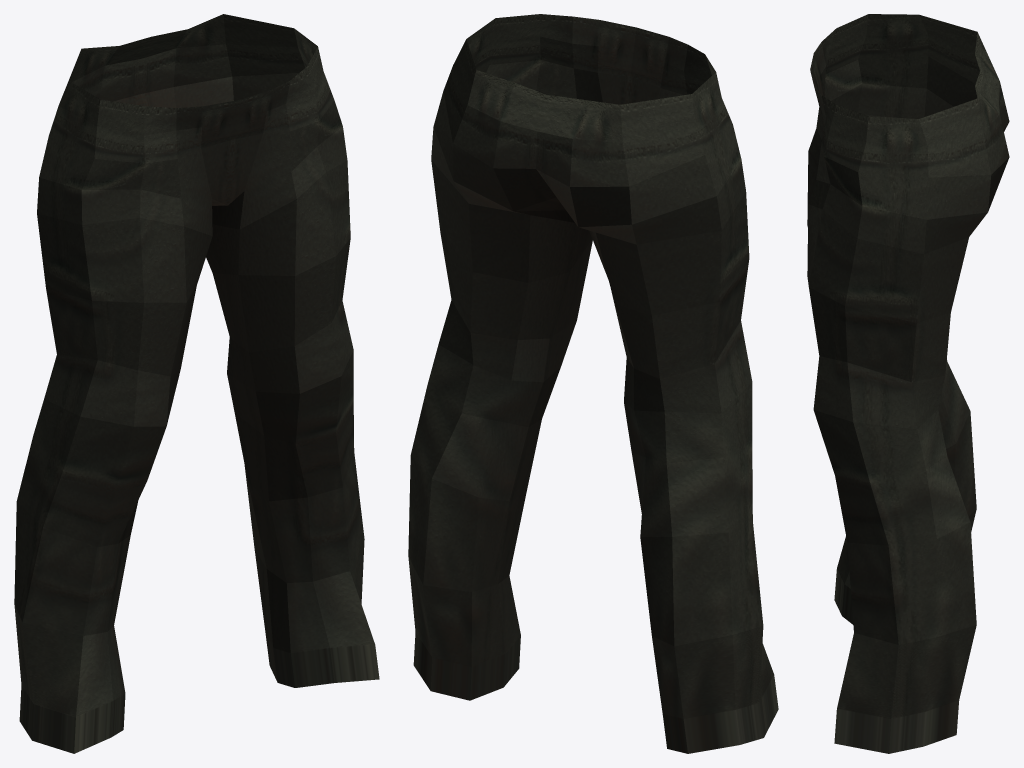
Rendered from garment.glb.
The picture shows the model from 3 angles, left to right: view 1: azimuth 30°, elevation 25°; view 2: azimuth 150°, elevation 25°; view 3: azimuth 270°, elevation 25°; orthographic projection. The views are drawn at different scales.
Parts seen in each view (by area): view 1: garment; view 2: garment; view 3: garment.
Boxes of the visible parts, box(x1,y1,x2,y2) form: garment: box(14, 14, 379, 753); garment: box(408, 14, 778, 753); garment: box(807, 14, 1009, 753).
Bounding box in the file's own units: 4.83 × 8.68 × 2.57.
1 material, 1 textured.
